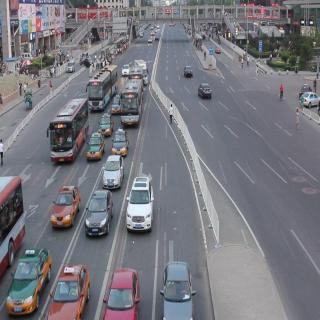BigCar: (47, 90, 87, 166), (88, 61, 118, 110), (122, 78, 144, 125)
Car: (8, 242, 48, 318), (159, 256, 198, 320), (51, 255, 89, 320), (102, 262, 142, 320), (125, 173, 156, 234), (85, 185, 112, 241), (51, 180, 79, 231), (102, 154, 125, 192), (87, 128, 105, 164), (112, 130, 128, 156), (300, 90, 320, 110), (98, 113, 113, 132), (199, 80, 212, 101), (111, 92, 122, 116), (66, 56, 76, 74), (120, 62, 131, 78), (183, 63, 192, 79), (215, 44, 222, 54), (148, 36, 154, 45)
